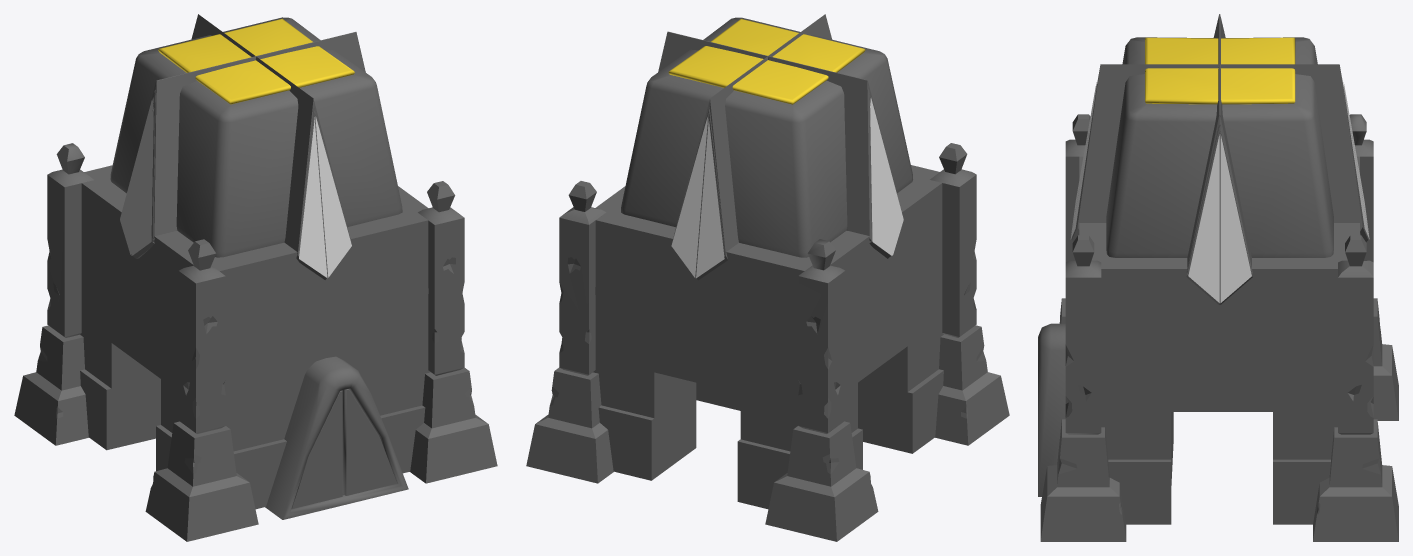
The model's file is Main Tower LV2.fbx.
3 renders of one model, left to right at view 1: azimuth 30°, elevation 25°; view 2: azimuth 150°, elevation 25°; view 3: azimuth 270°, elevation 25°, orthographic. The views are drawn at different scales.
Visible parts, largest first — view 1: Cube.030; view 2: Cube.030; view 3: Cube.030.
Part boxes in pixels (left/top/right/bottom): Cube.030: left=14, top=14, right=497, bottom=541; Cube.030: left=526, top=14, right=1009, bottom=541; Cube.030: left=1038, top=14, right=1398, bottom=541.
Bounding box in the file's own units: 254 × 301 × 246.
